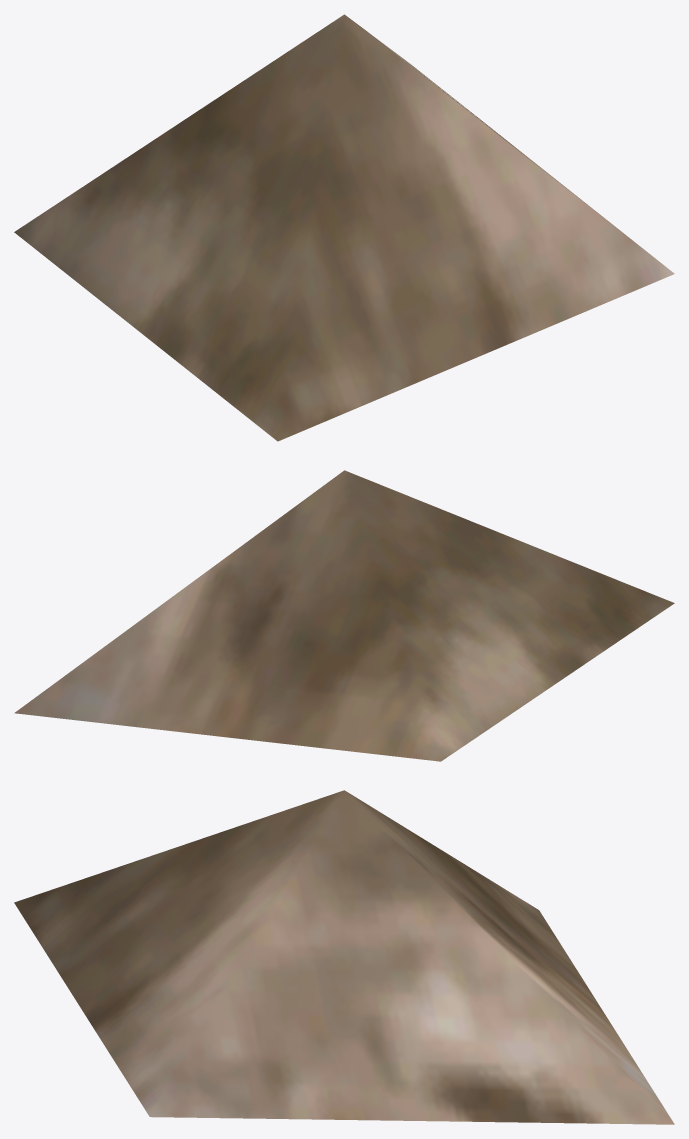
The model's file is OVERHILL_A_01_PLANE07.fbx.
3 views of the same model, one above another, from view 1: azimuth 30°, elevation 25°; view 2: azimuth 150°, elevation 25°; view 3: azimuth 270°, elevation 25° (orthographic). The views are drawn at different scales.
Parts seen in each view (by area): view 1: OVERHILL_A_01_PLANE07; view 2: OVERHILL_A_01_PLANE07; view 3: OVERHILL_A_01_PLANE07.
Part boxes in pixels (bbox=[...]): OVERHILL_A_01_PLANE07: bbox=[14, 14, 674, 441]; OVERHILL_A_01_PLANE07: bbox=[14, 470, 674, 761]; OVERHILL_A_01_PLANE07: bbox=[14, 790, 674, 1124].
Bounding box in the file's own units: 1199 × 562 × 1508.
1 material, 1 textured.
